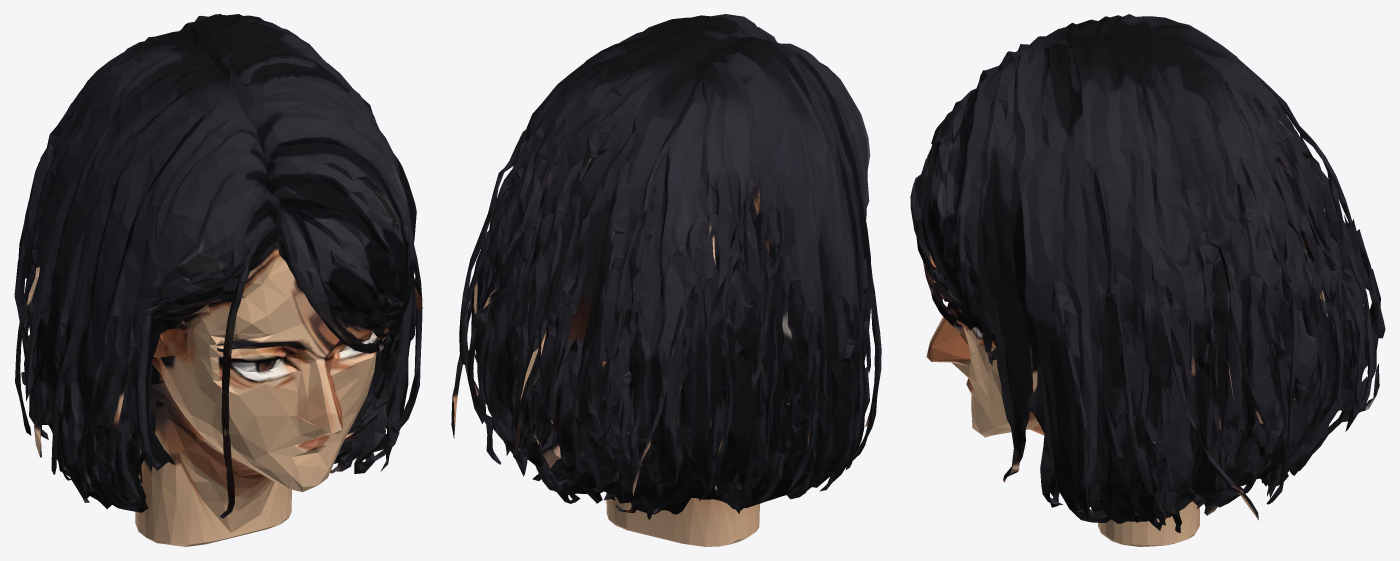
File: side_michio_repaired_atlas.glb
3 renders of one model, left to right at view 1: azimuth 30°, elevation 25°; view 2: azimuth 150°, elevation 25°; view 3: azimuth 270°, elevation 25°, orthographic. The views are drawn at different scales.
Parts seen in each view (by area): view 1: temp_mesh.ply; view 2: temp_mesh.ply; view 3: temp_mesh.ply.
Part boxes in pixels (bbox=[...]): temp_mesh.ply: bbox=[14, 14, 422, 546]; temp_mesh.ply: bbox=[451, 14, 881, 546]; temp_mesh.ply: bbox=[910, 14, 1385, 546].
Size of the model in its own units: 1.13 by 1.42 by 1.28.
Materials: 1 (1 with a texture image).
